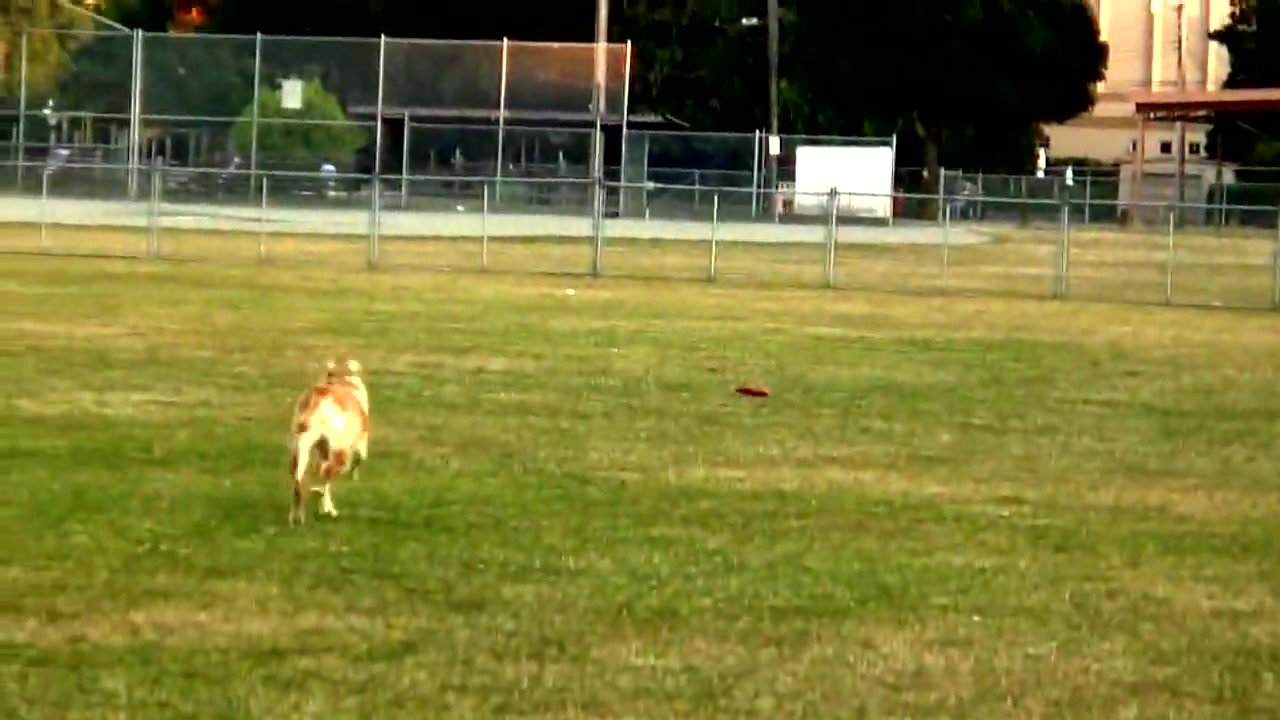dog: (285, 355, 377, 526)
